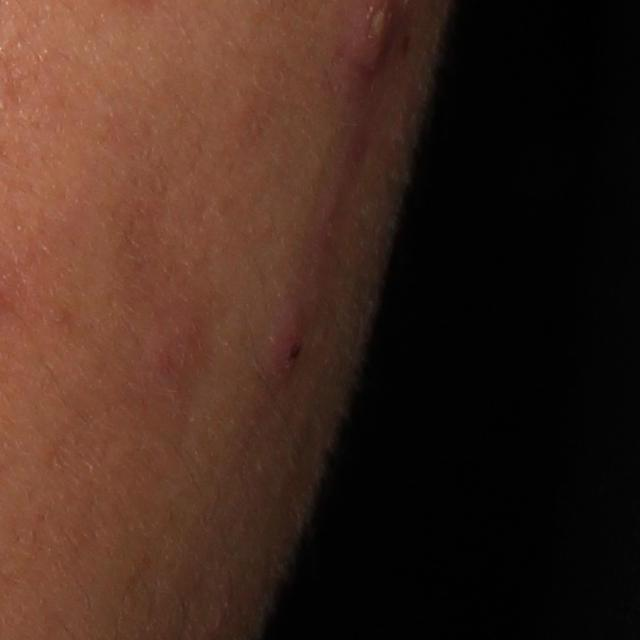papule: (142, 310, 206, 387), (262, 321, 307, 390)
